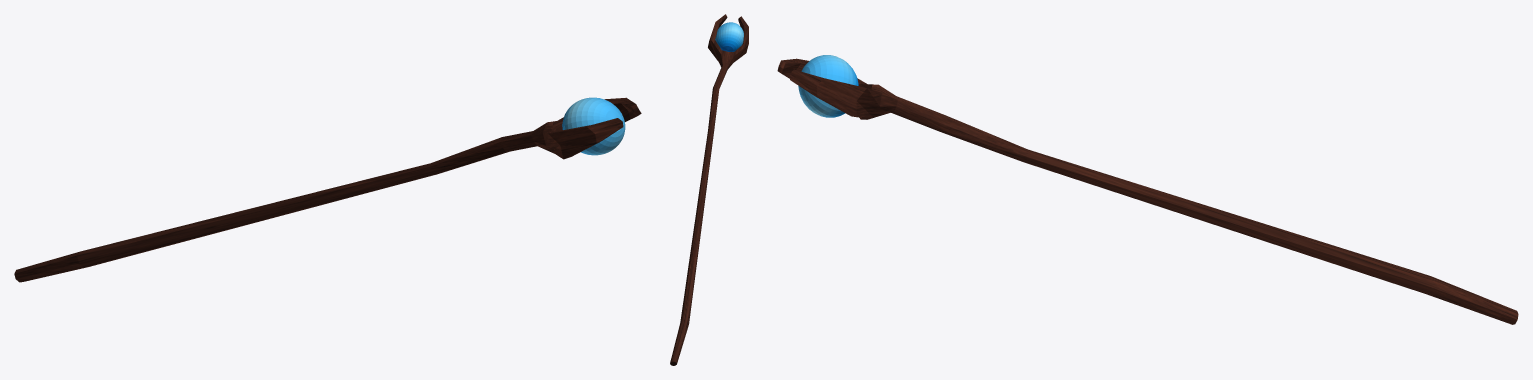
File: mhw_culturalibre_magic_sceptre.glb
3 views of the same model, side by side, from view 1: azimuth 30°, elevation 25°; view 2: azimuth 150°, elevation 25°; view 3: azimuth 270°, elevation 25° (orthographic). The views are drawn at different scales.
Visible parts, largest first — view 1: mhw_culturalibre_magic_sceptre; view 2: mhw_culturalibre_magic_sceptre; view 3: mhw_culturalibre_magic_sceptre.
Boxes of the visible parts, x1,y1,x2,y2 form: mhw_culturalibre_magic_sceptre: (14,97,641,282); mhw_culturalibre_magic_sceptre: (670,14,748,365); mhw_culturalibre_magic_sceptre: (777,55,1518,324).
Bounding box in the file's own units: 0.6447 × 0.8545 × 1.51.
Materials: 1 (1 with a texture image).
